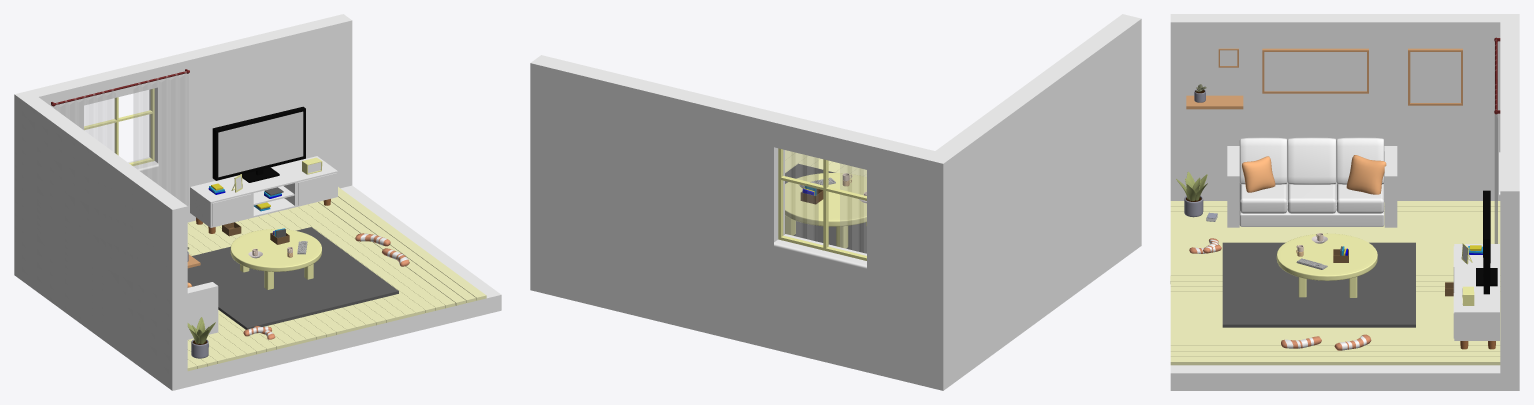
The picture shows the model from 3 angles, left to right: view 1: azimuth 30°, elevation 25°; view 2: azimuth 150°, elevation 25°; view 3: azimuth 270°, elevation 25°; orthographic projection. The views are drawn at different scales.
Parts seen in each view (by area): view 1: _polySurface308, _polySurface247, _pCube52, _pasted__dier_ban_pCylinder28, _polySurface316, _polySurface298, _pCylinder45, _polySurface274, _pCube77, _polySurface306; view 2: _polySurface308, _pasted__dier_ban_pCylinder28, _pCylinder45, _pCube52, _polySurface306, _polySurface309, _polySurface247; view 3: _polySurface308, _polySurface247, _polySurface274, _pCube52, _polySurface290_f_56_, _pCylinder45, _polySurface316, _polySurface290, _pCube73, _pCube77, _pCube74, _pasted__dier_ban_pCylinder28 (+4 smaller).
Boxes of the visible parts, bbox=[...] form: _polySurface308: bbox=[14, 14, 501, 390]; _polySurface247: bbox=[187, 187, 486, 371]; _pCube52: bbox=[187, 227, 398, 329]; _pasted__dier_ban_pCylinder28: bbox=[51, 69, 189, 205]; _polySurface316: bbox=[190, 156, 337, 227]; _polySurface298: bbox=[212, 106, 305, 180]; _pCylinder45: bbox=[230, 229, 321, 289]; _polySurface274: bbox=[187, 282, 218, 339]; _pCube77: bbox=[243, 233, 409, 339]; _polySurface306: bbox=[114, 88, 154, 165]; _polySurface308: bbox=[530, 14, 1141, 390]; _pasted__dier_ban_pCylinder28: bbox=[785, 150, 866, 253]; _pCylinder45: bbox=[785, 173, 866, 248]; _pCube52: bbox=[785, 163, 866, 253]; _polySurface306: bbox=[778, 148, 866, 260]; _polySurface309: bbox=[774, 234, 866, 268]; _polySurface247: bbox=[785, 150, 866, 177]; _polySurface308: bbox=[1170, 14, 1519, 390]; _polySurface247: bbox=[1170, 201, 1500, 365]; _polySurface274: bbox=[1227, 137, 1397, 227]; _pCube52: bbox=[1222, 242, 1415, 327]; _polySurface290_f_56_: bbox=[1218, 48, 1368, 93]; _pCylinder45: bbox=[1276, 233, 1377, 297]; _polySurface316: bbox=[1453, 244, 1499, 340]; _polySurface290: bbox=[1408, 48, 1462, 105]; _pCube73: bbox=[1346, 155, 1386, 194]; _pCube77: bbox=[1189, 238, 1371, 350]; _pCube74: bbox=[1242, 156, 1275, 192]; _pasted__dier_ban_pCylinder28: bbox=[1494, 37, 1500, 243].
Bounding box in the file's own units: 329 × 175 × 274.
